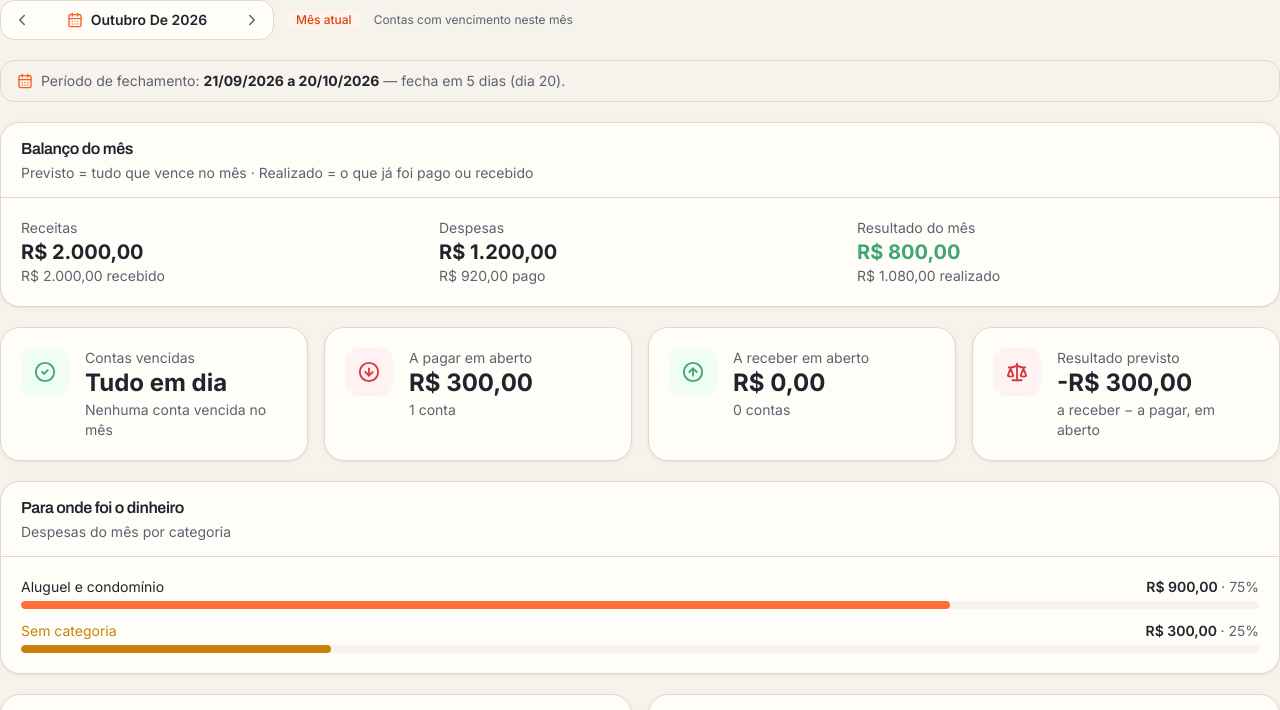
Test: FinanceiroVisaoGeral — balanço, categorias e fechamento › tells how long until the closing day, only for the current month
Click the button named "Mês anterior": click(22, 20) [7,5,37,35]
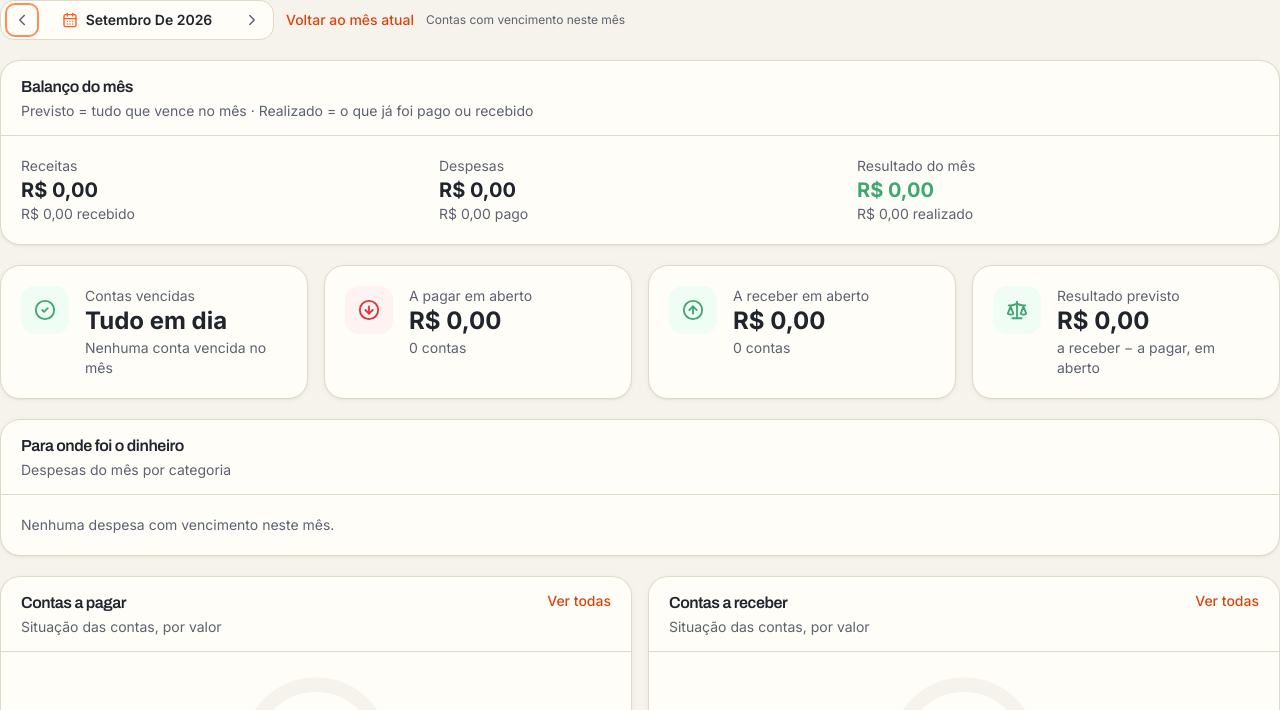
expect the text "Período de fechamento" is gone: met
